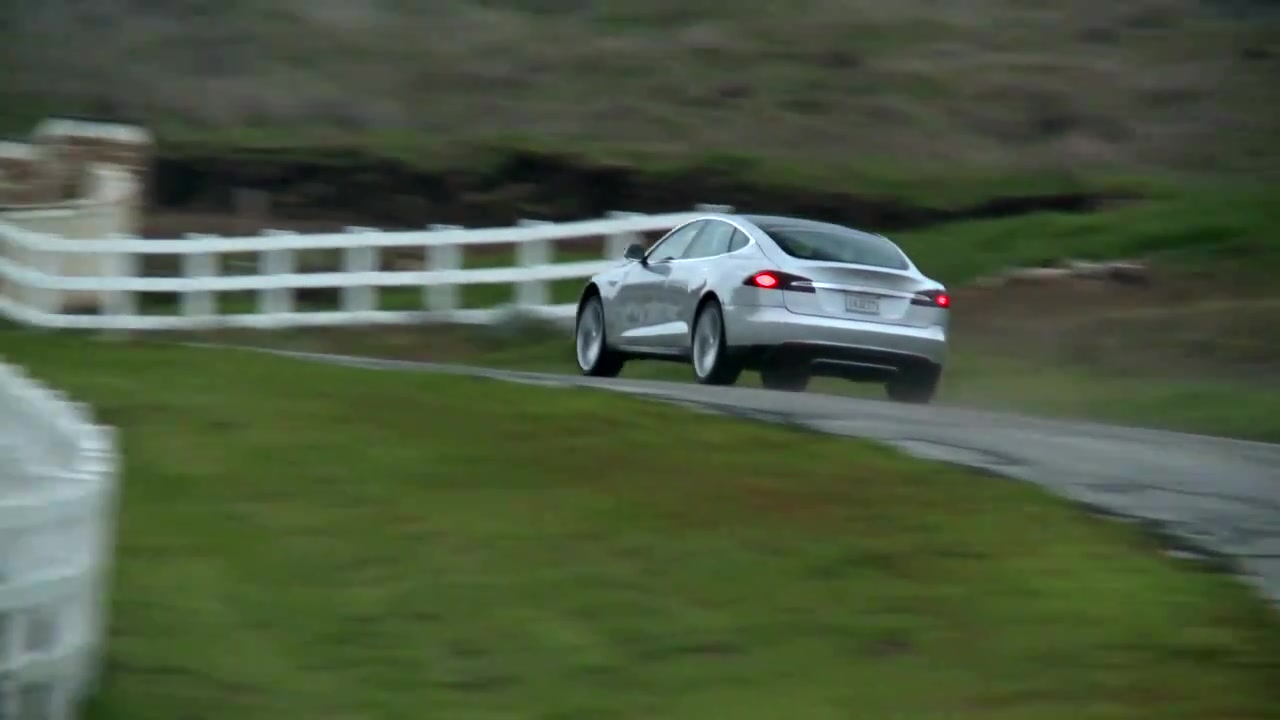car: (567, 209, 955, 405)
